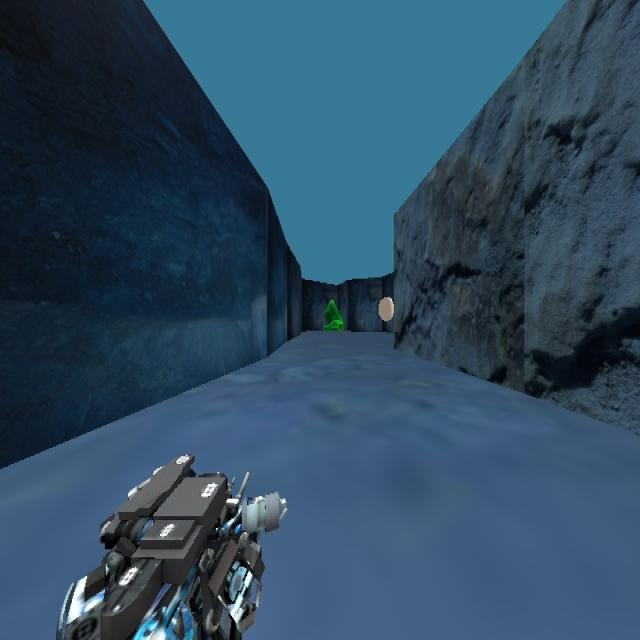Circle: (377, 295, 394, 321)
Diamon: (321, 297, 344, 331)
